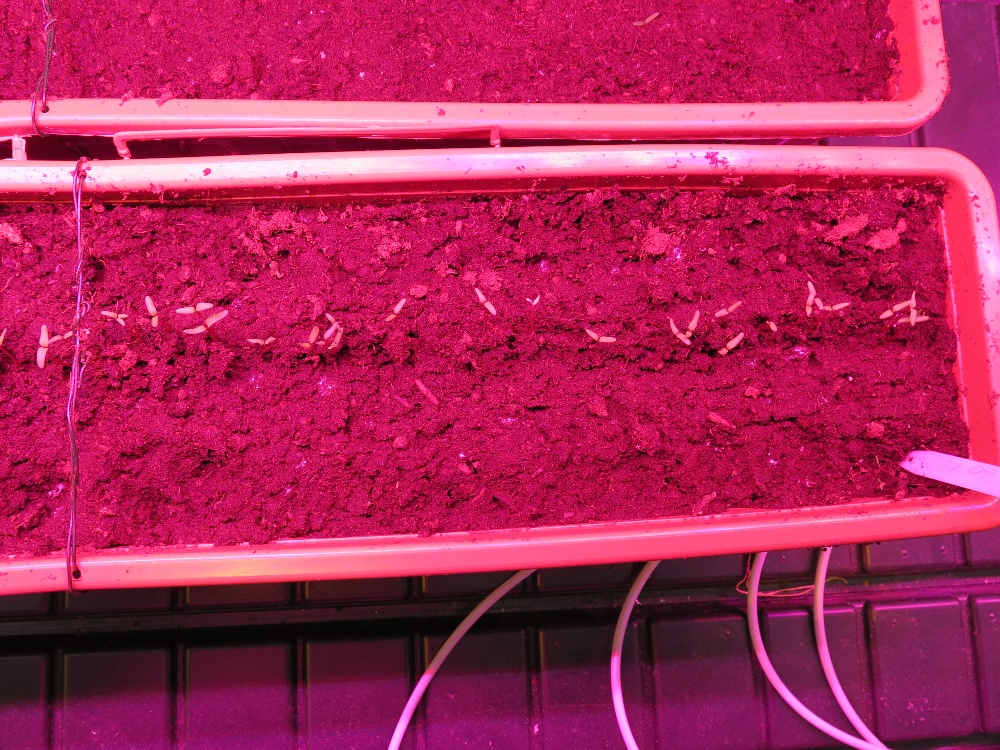crop: (31, 323, 52, 369), (666, 311, 690, 349), (473, 285, 497, 316), (717, 330, 744, 356), (878, 298, 911, 317), (322, 309, 346, 334), (384, 296, 406, 323), (584, 326, 617, 344), (815, 301, 857, 315), (297, 324, 319, 350), (805, 276, 822, 309), (142, 294, 158, 329), (174, 301, 214, 315), (713, 299, 742, 318), (324, 334, 351, 354), (894, 313, 934, 326), (907, 284, 917, 327), (685, 311, 699, 341), (244, 334, 276, 346), (805, 294, 814, 320)
